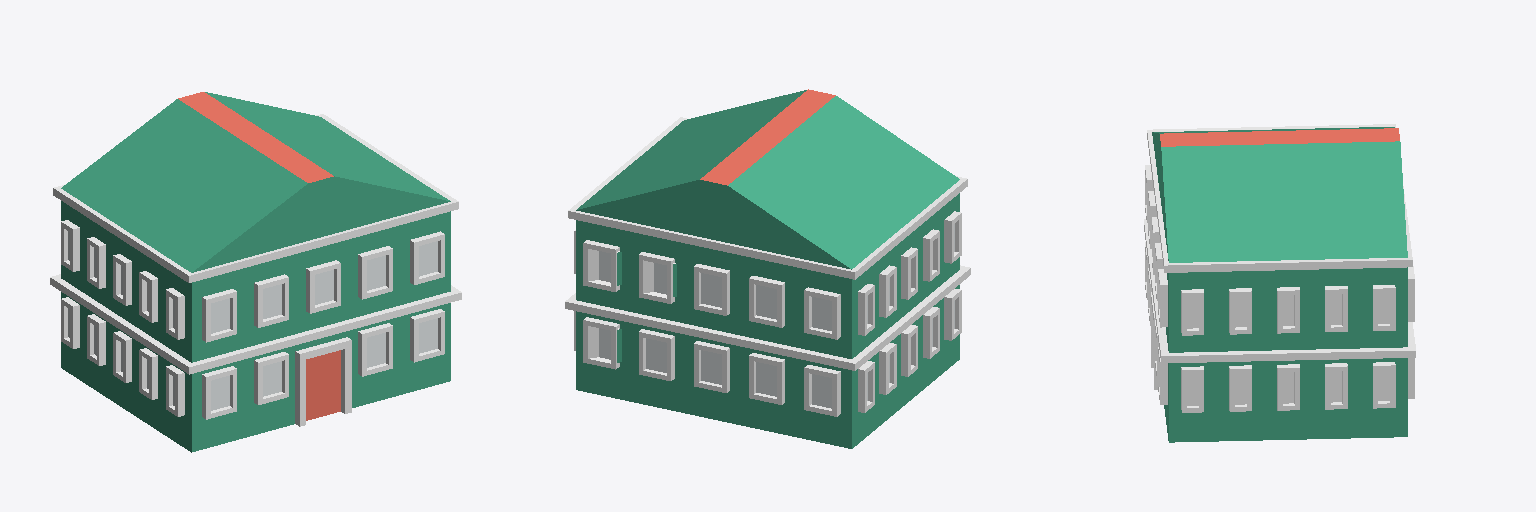
File: 绿红建筑.obj
3 views of the same model, side by side, from view 1: azimuth 30°, elevation 25°; view 2: azimuth 150°, elevation 25°; view 3: azimuth 270°, elevation 25° (orthographic).
Parts seen in each view (by area): view 1: 右一.1; view 2: 右一.1; view 3: 右一.1.
Boxes of the visible parts, x1=… form: 右一.1: x1=50, y1=92, x2=461, y2=452; 右一.1: x1=565, y1=89, x2=970, y2=448; 右一.1: x1=1144, y1=124, x2=1415, y2=442.
Size of the model in its own units: 1590 by 1226 by 1278.